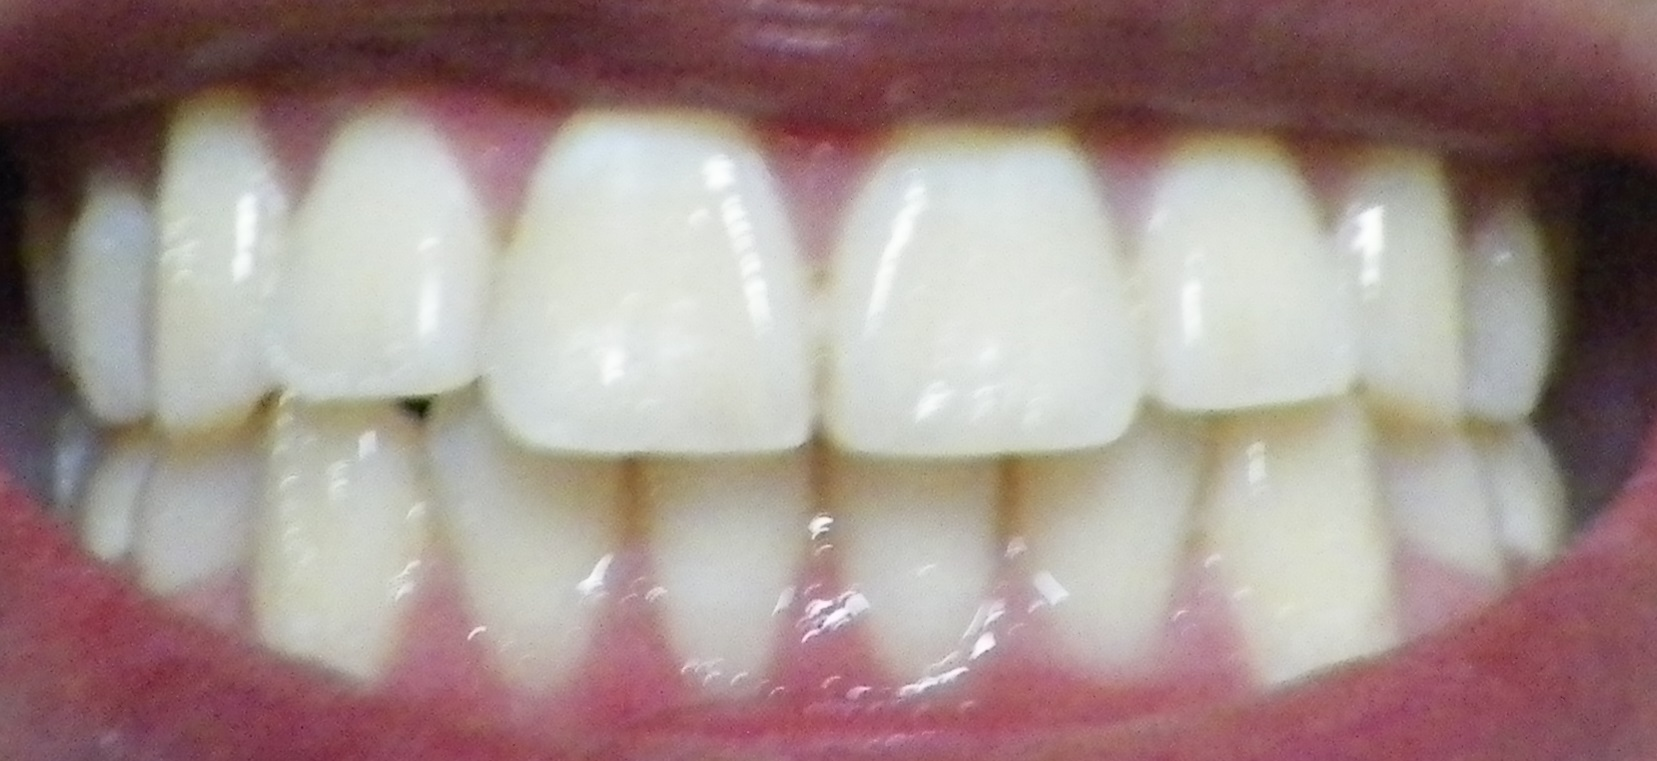boca: (13, 95, 1560, 689)
